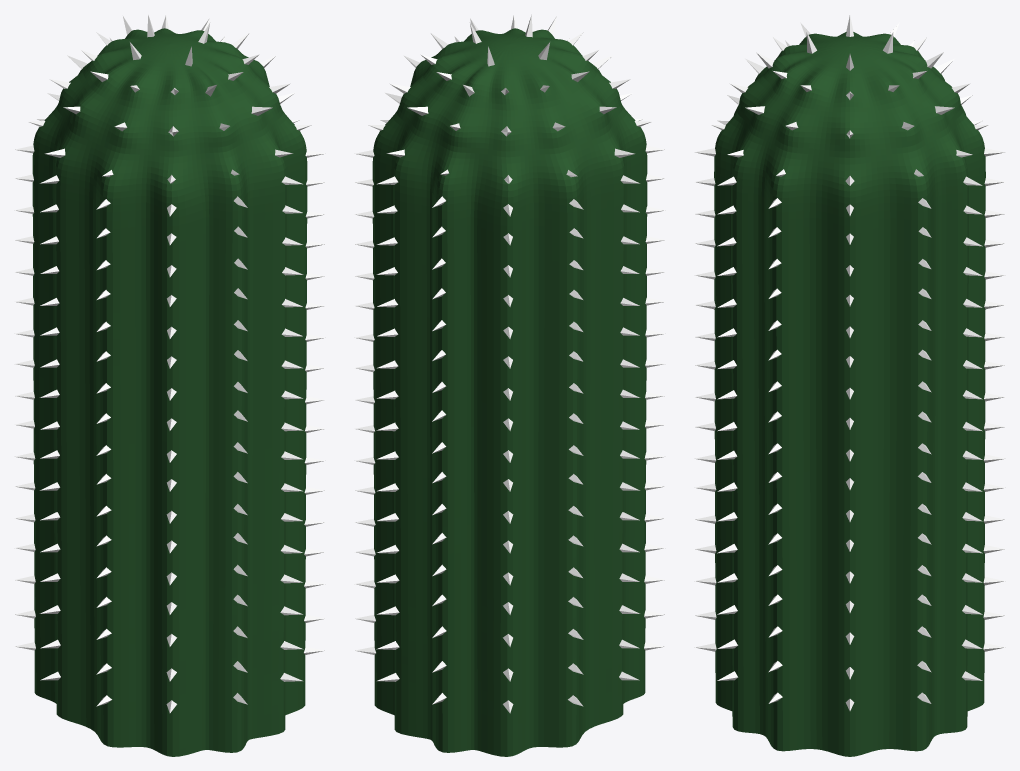
File: cactus.fbx
3 renders of one model, left to right at view 1: azimuth 30°, elevation 25°; view 2: azimuth 150°, elevation 25°; view 3: azimuth 270°, elevation 25°, orthographic.
Parts seen in each view (by area): view 1: Sphere.001; view 2: Sphere.001; view 3: Sphere.001.
Part boxes in pixels (x1,y1,x2,y2): Sphere.001: (14,15,325,756); Sphere.001: (354,15,665,756); Sphere.001: (694,15,1005,756).
Bounding box in the file's own units: 256 × 631 × 265.
